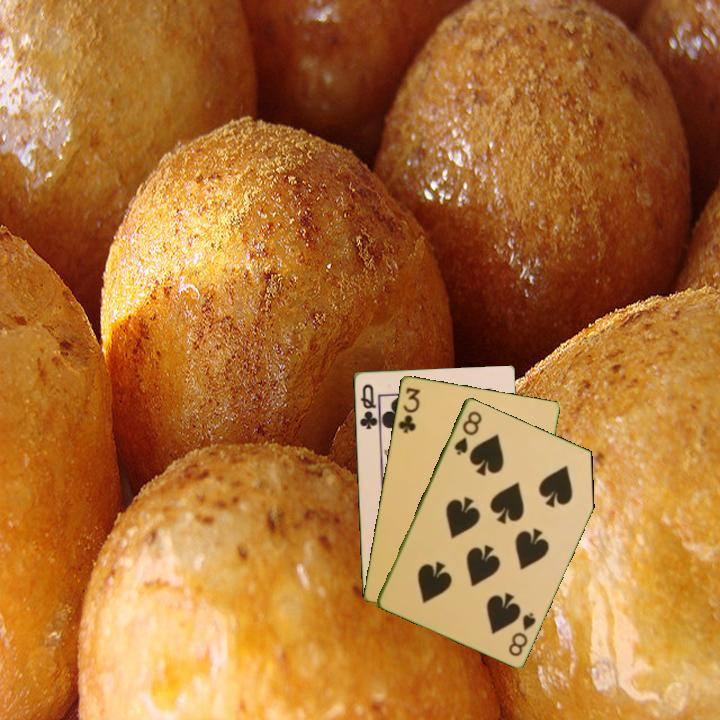3c: (394, 384, 423, 436)
8s: (450, 407, 485, 458), (505, 609, 539, 659)
Qc: (356, 380, 380, 432)
